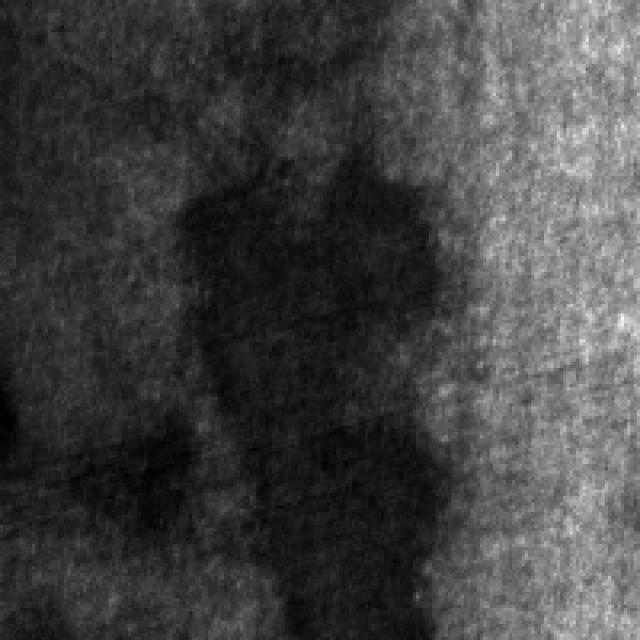patches: (180, 148, 454, 630), (51, 406, 202, 544)
